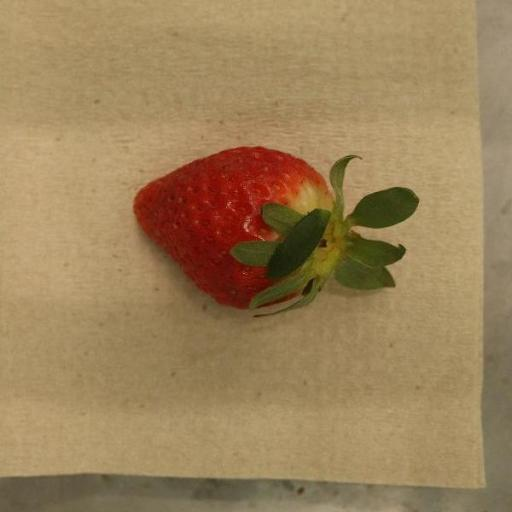Strawberry: (133, 147, 421, 318)
